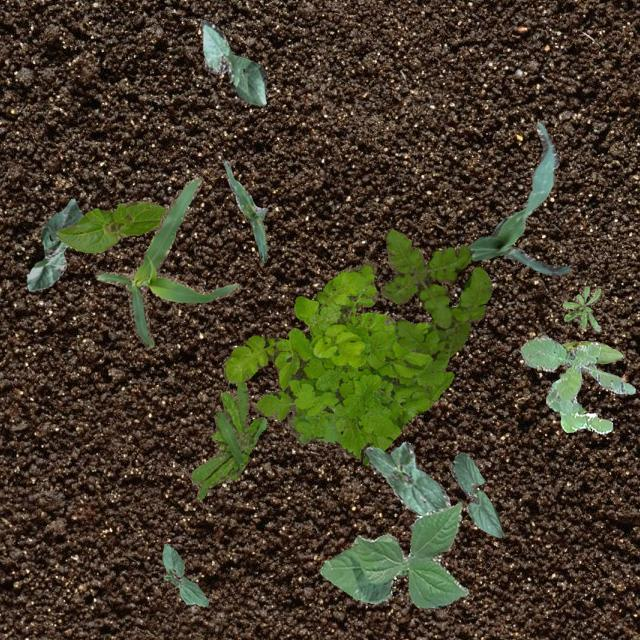crop: (94, 175, 240, 348), (318, 502, 468, 608), (466, 122, 570, 274), (362, 441, 450, 514), (198, 19, 266, 106), (54, 200, 166, 252), (26, 198, 81, 290), (222, 160, 266, 262), (450, 452, 502, 536), (162, 542, 208, 606), (560, 340, 622, 362)
weed: (222, 261, 452, 464), (379, 228, 492, 364), (520, 334, 634, 432), (190, 381, 266, 498), (562, 286, 600, 330)
